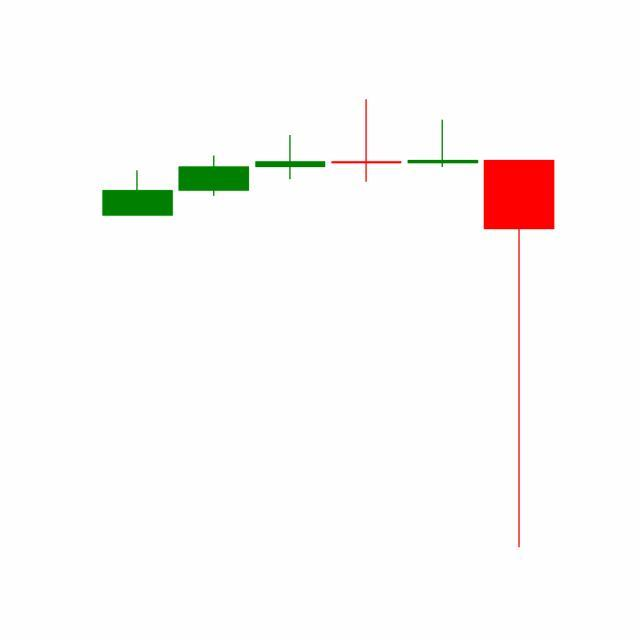Gravestone Doji: (404, 119, 482, 169)
